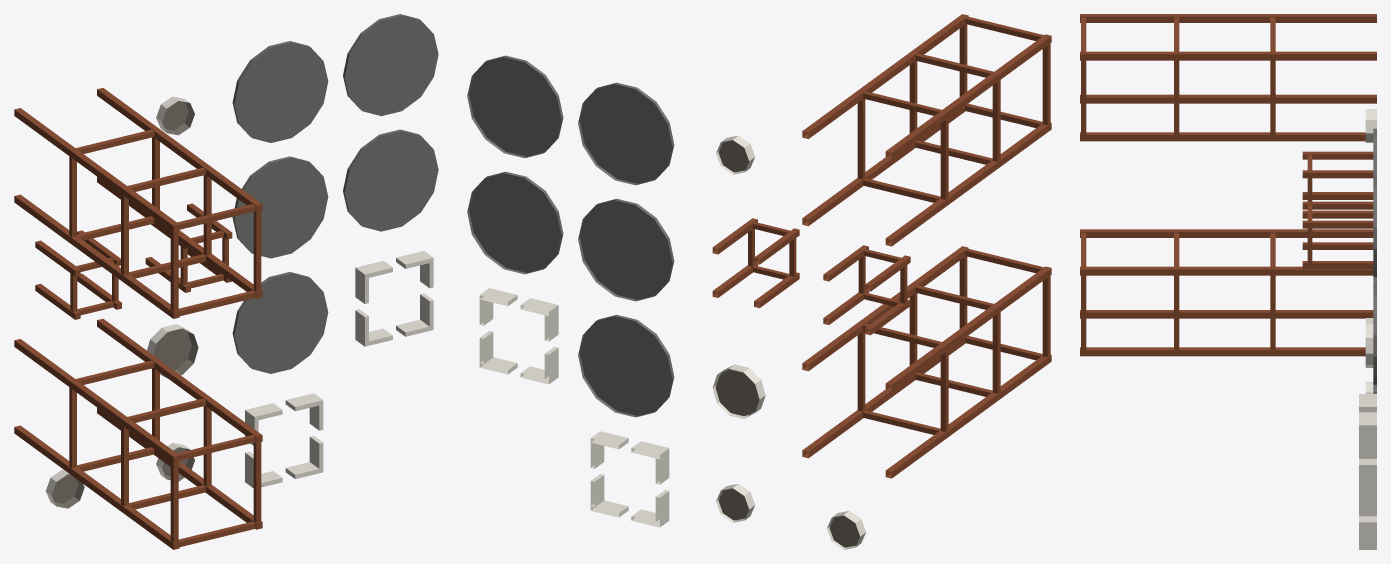
Rendered from construction_0.glb.
3 renders of one model, left to right at view 1: azimuth 30°, elevation 25°; view 2: azimuth 150°, elevation 25°; view 3: azimuth 270°, elevation 25°, orthographic. The views are drawn at different scales.
Parts seen in each view (by area): view 1: t01_g21, t03_g21, t33_g18, t32_g18, t23_g18, t21_g18, t22_g18, t31_g23, t20_g23, t02_g22, t12_g22, t11_g19 (+3 smaller); view 2: t03_g21, t01_g21, t22_g18, t23_g18, t21_g18, t32_g18, t33_g18, t31_g23, t20_g23, t02_g22, t12_g22, t11_g19 (+3 smaller); view 3: t03_g21, t01_g21, t12_g22, t02_g22, t31_g23, t20_g23, t11_g19, t33_g18, t32_g18.
Part boxes in pixels (left/top/right/bottom): t01_g21: left=14, top=318, right=262, bottom=549; t03_g21: left=14, top=88, right=262, bottom=318; t33_g18: left=343, top=14, right=438, bottom=116; t32_g18: left=343, top=129, right=438, bottom=231; t23_g18: left=232, top=41, right=328, bottom=142; t21_g18: left=232, top=272, right=328, bottom=373; t22_g18: left=232, top=156, right=328, bottom=258; t31_g23: left=355, top=251, right=433, bottom=346; t20_g23: left=245, top=393, right=323, bottom=487; t02_g22: left=35, top=230, right=121, bottom=319; t12_g22: left=145, top=203, right=232, bottom=292; t11_g19: left=147, top=324, right=198, bottom=378; t03_g21: left=802, top=14, right=1051, bottom=246; t01_g21: left=802, top=246, right=1051, bottom=478; t22_g18: left=578, top=198, right=674, bottom=301; t23_g18: left=578, top=82, right=674, bottom=185; t21_g18: left=578, top=314, right=674, bottom=417; t32_g18: left=467, top=171, right=563, bottom=274; t33_g18: left=467, top=55, right=563, bottom=158; t31_g23: left=479, top=288, right=558, bottom=384; t20_g23: left=590, top=431, right=669, bottom=527; t02_g22: left=823, top=245, right=910, bottom=335; t12_g22: left=712, top=218, right=799, bottom=308; t11_g19: left=712, top=364, right=765, bottom=418; t03_g21: left=1080, top=14, right=1376, bottom=141; t01_g21: left=1080, top=229, right=1373, bottom=356; t12_g22: left=1302, top=201, right=1373, bottom=268; t02_g22: left=1302, top=151, right=1373, bottom=218; t31_g23: left=1359, top=394, right=1376, bottom=492; t20_g23: left=1359, top=492, right=1376, bottom=549; t11_g19: left=1365, top=318, right=1373, bottom=367; t33_g18: left=1373, top=178, right=1376, bottom=277; t32_g18: left=1373, top=286, right=1376, bottom=384.
Size of the model in its own units: 61.25 by 59.63 by 40.
